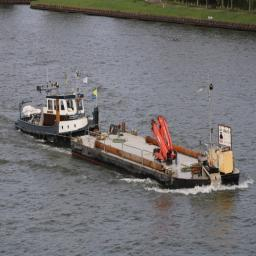tugboat: (15, 80, 102, 152)
